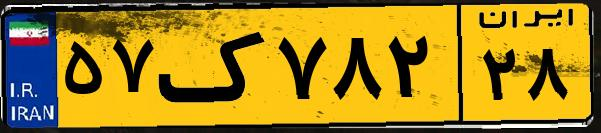2: (385, 28, 445, 110), (475, 38, 525, 113)
5: (57, 26, 110, 100)
7: (270, 28, 330, 110), (110, 28, 158, 98)
8: (330, 28, 385, 110), (525, 38, 570, 115)
ک: (158, 12, 270, 120)
